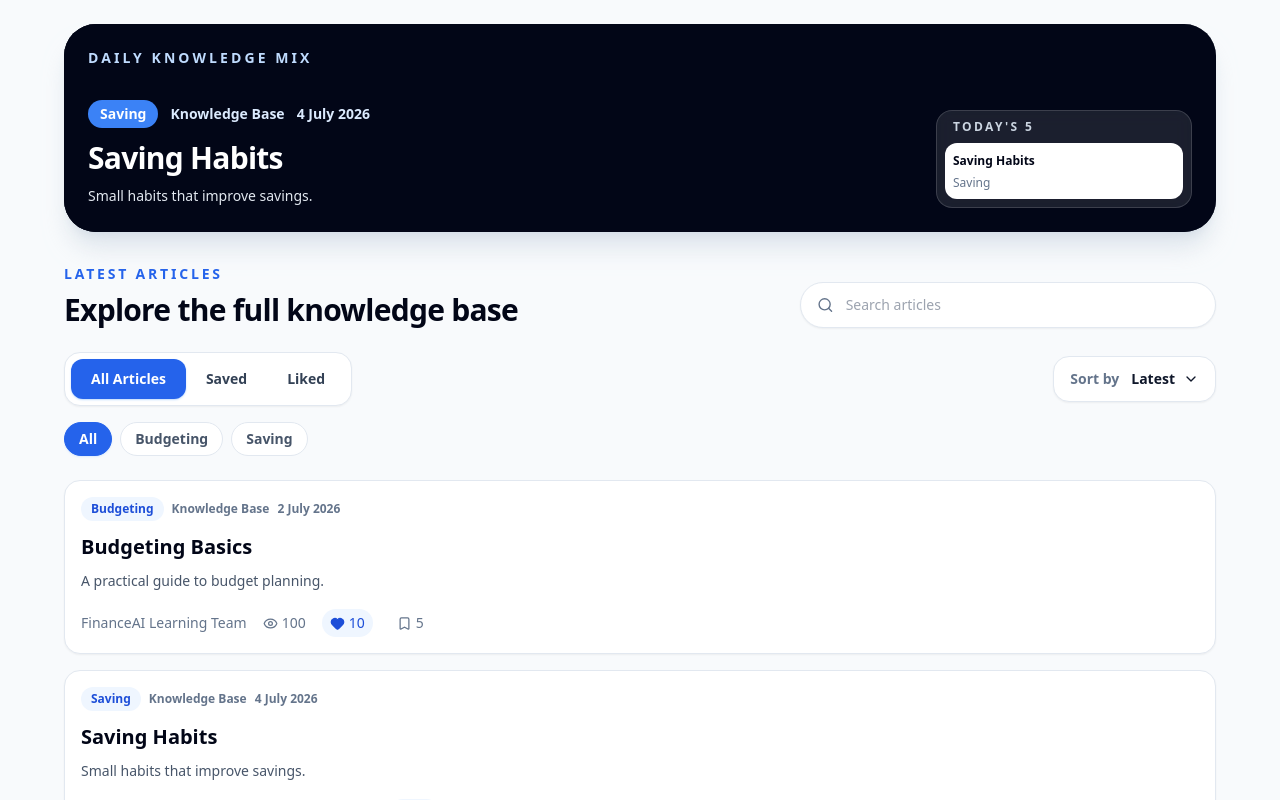
Test: shows liked and saved personal article tabs
Expected: the link "Budgeting Basics" is shown, [81,533,252,560]
Click the button "Saved".
click(227, 379)  # box [186,359,267,399]
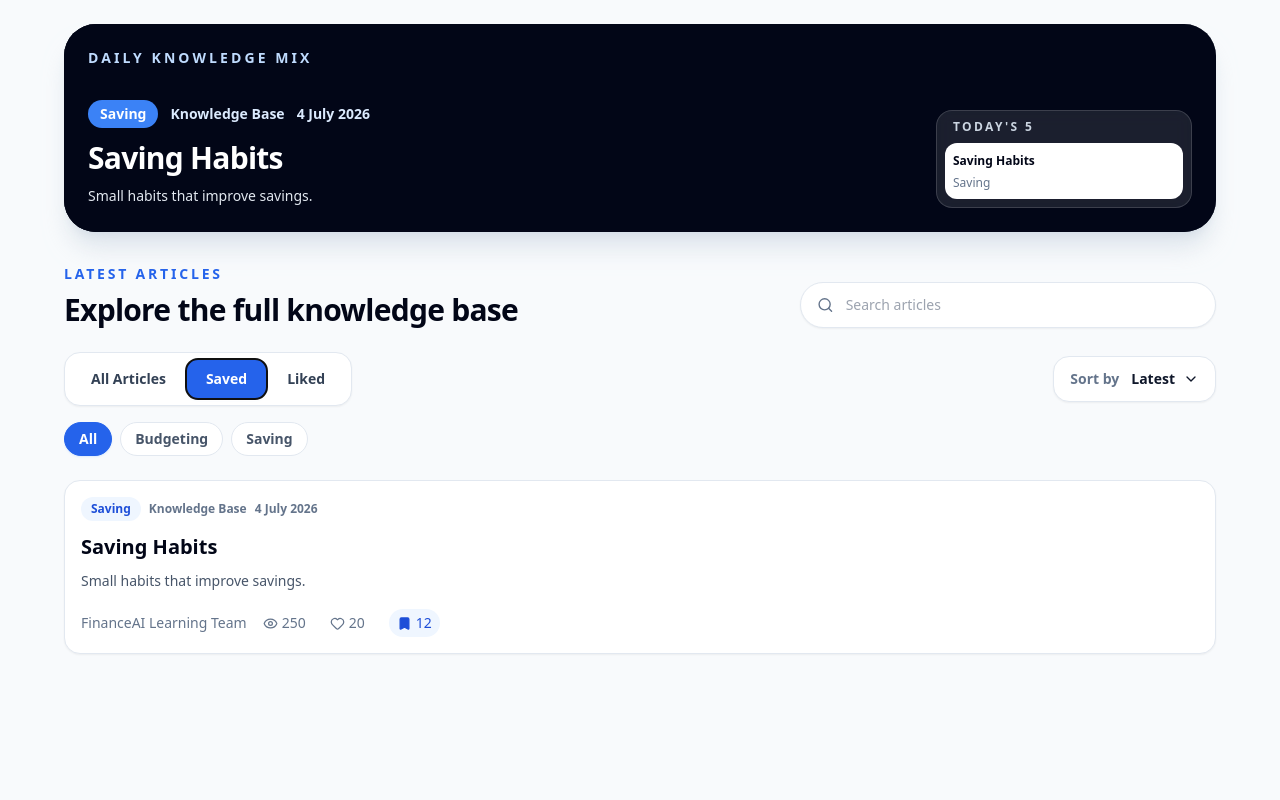
Expected: the 2nd link "Saving Habits" is shown, [81,533,217,560]
Expected: the link "Budgeting Basics" is gone
Click the button "Liked".
click(306, 379)  # box [267,359,345,399]
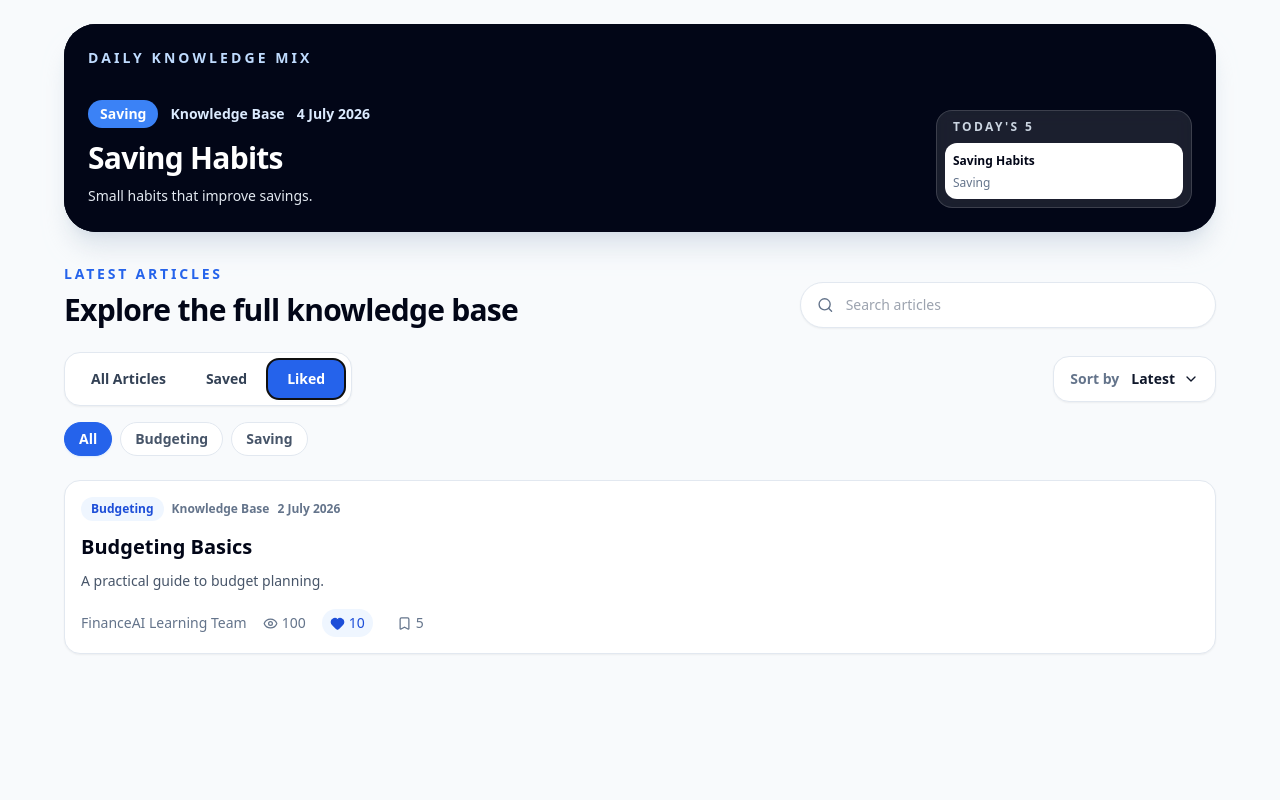
Expected: the link "Budgeting Basics" is shown, [81,533,252,560]
